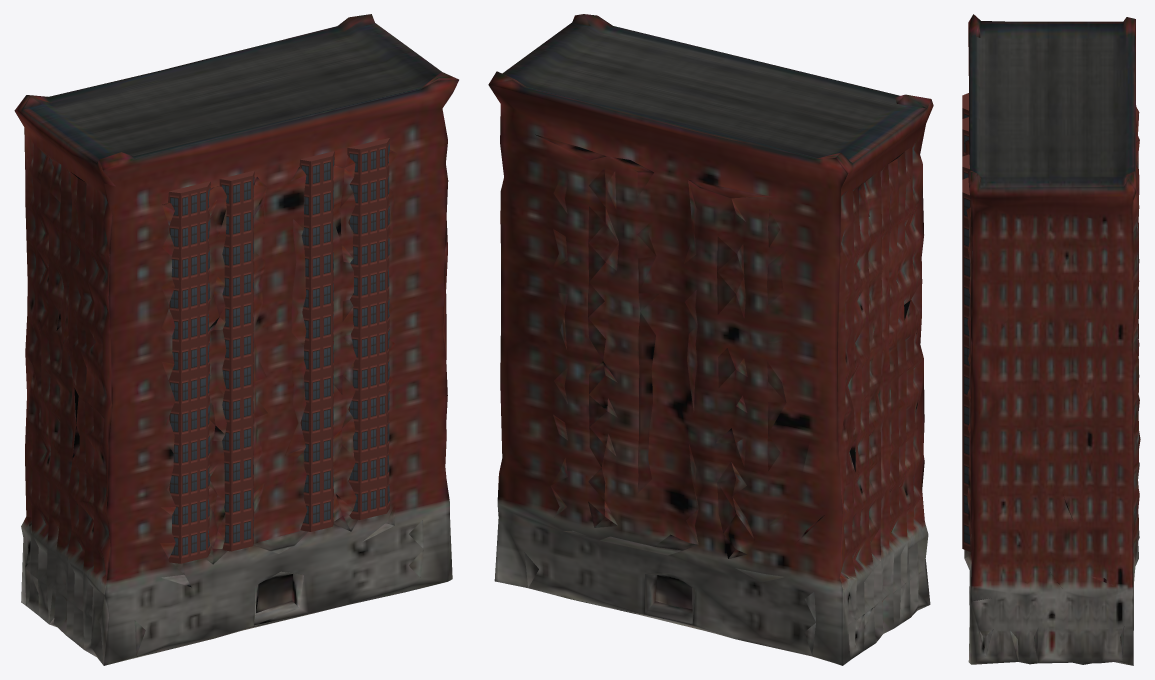
The model's file is manhattan_building.glb.
3 renders of one model, left to right at view 1: azimuth 30°, elevation 25°; view 2: azimuth 150°, elevation 25°; view 3: azimuth 270°, elevation 25°, orthographic. The views are drawn at different scales.
Parts seen in each view (by area): view 1: manhattan_building; view 2: manhattan_building; view 3: manhattan_building.
Part boxes in pixels (left/top/right/bottom): manhattan_building: left=14, top=14, right=458, bottom=665; manhattan_building: left=488, top=14, right=933, bottom=665; manhattan_building: left=962, top=14, right=1140, bottom=665.
Bounding box in the file's own units: 45 × 61 × 20.1.
Materials: 2 (2 with a texture image).
